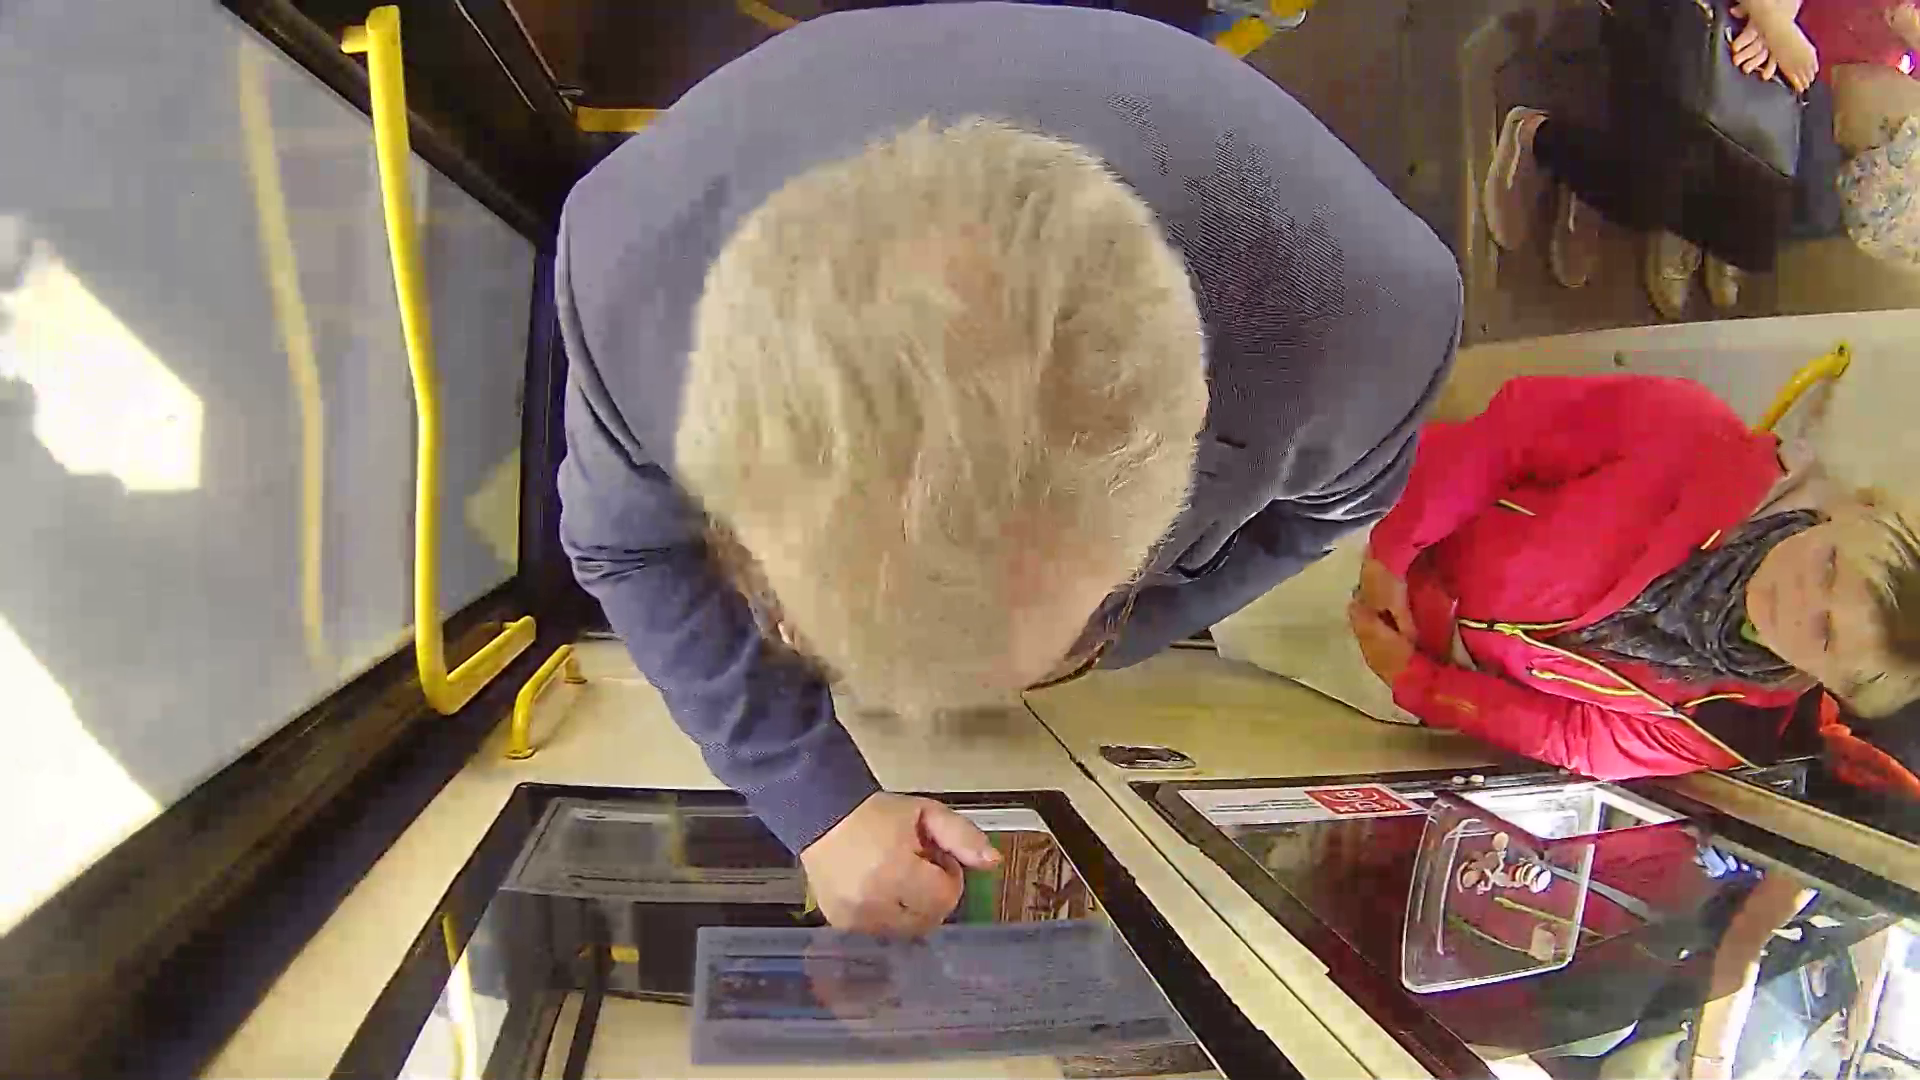person: (504, 13, 1477, 838)
